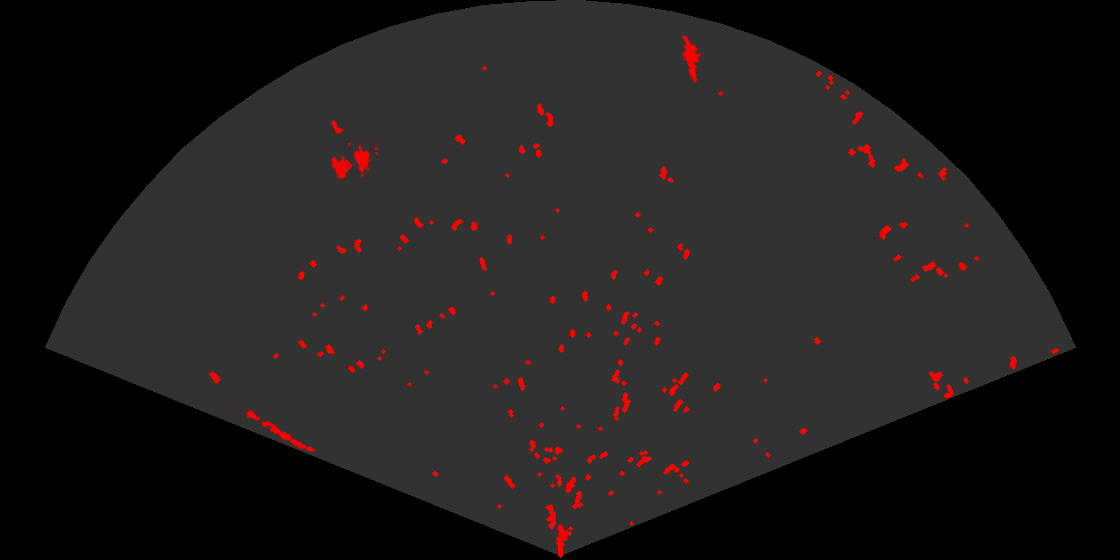cage: (329, 143, 378, 181)
chain: (236, 404, 317, 454)
frogman: (680, 36, 703, 84)
